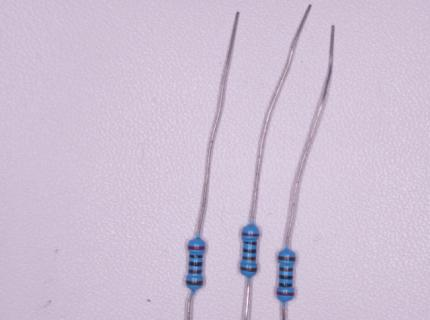Black band: (189, 261, 202, 267), (189, 254, 203, 259), (279, 282, 293, 287), (243, 241, 257, 245), (243, 249, 257, 253), (279, 275, 293, 279)
Brown band: (240, 266, 257, 272), (278, 256, 296, 261), (186, 280, 203, 285), (279, 267, 293, 272), (243, 256, 256, 261), (188, 269, 202, 273)
Red band: (242, 232, 259, 237), (277, 291, 294, 296), (188, 246, 205, 250)
